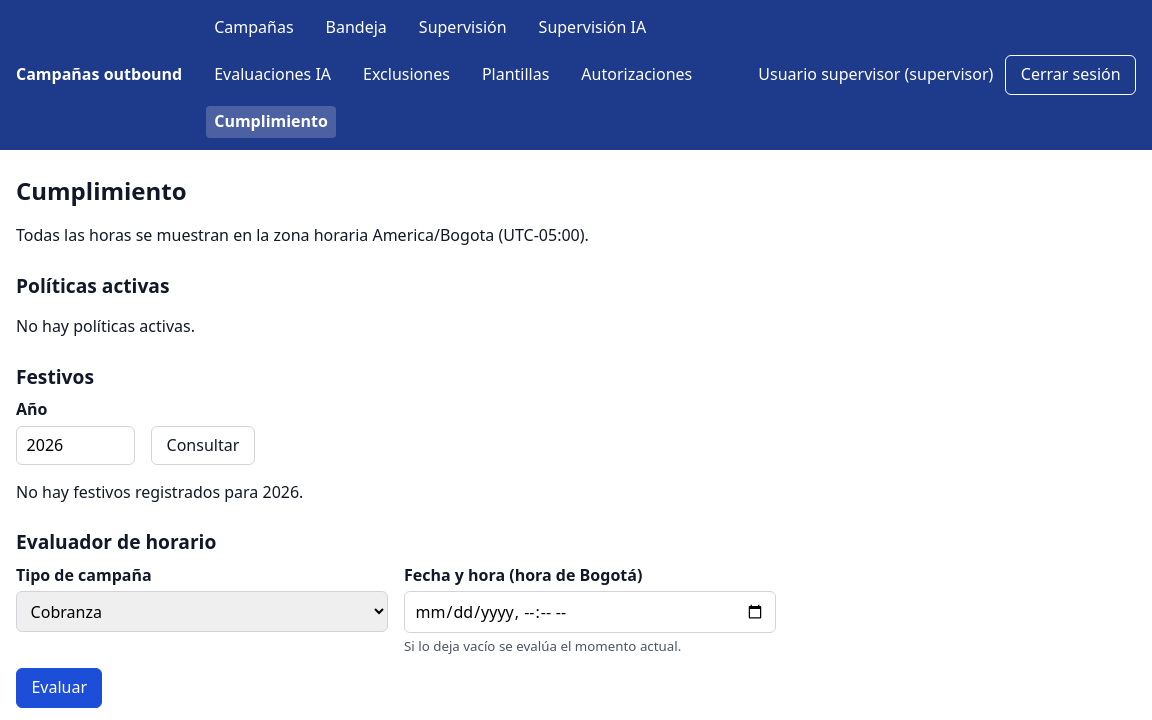
it: Evaluador de cumplimiento › sin momento no envía el campo (el servidor usa "ahora")
Click the button "Evaluar": click(59, 688) [16,668,102,708]
(page scrolled)
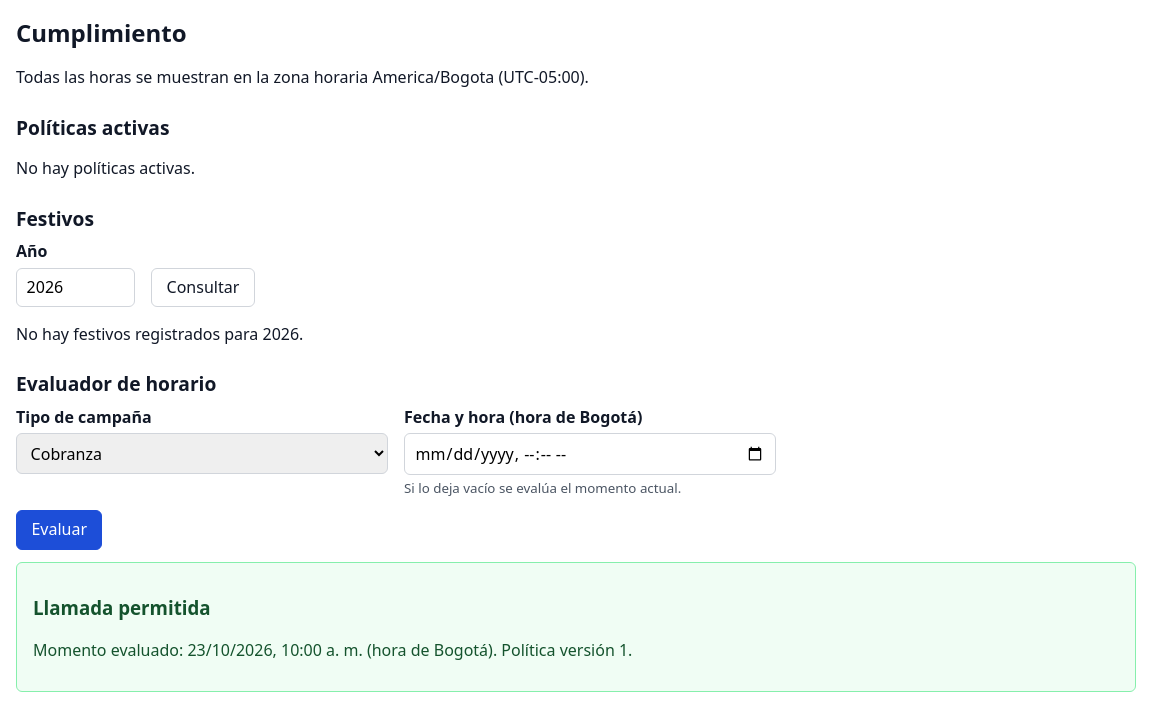
Check: the heading "Llamada permitida" is shown, box [33,594,211,620]
